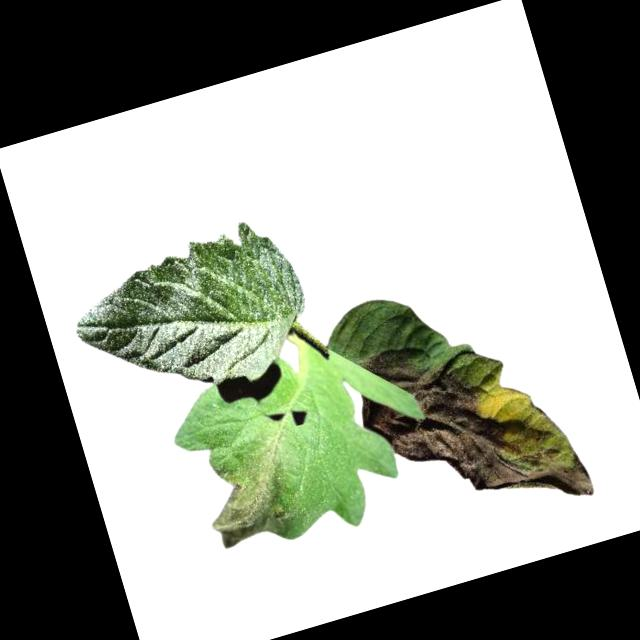Late_blight: (344, 304, 596, 553), (194, 442, 311, 555)
healthy: (56, 209, 325, 427)
